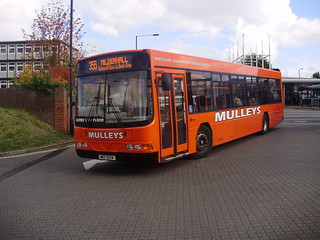bus: (73, 49, 284, 167)
